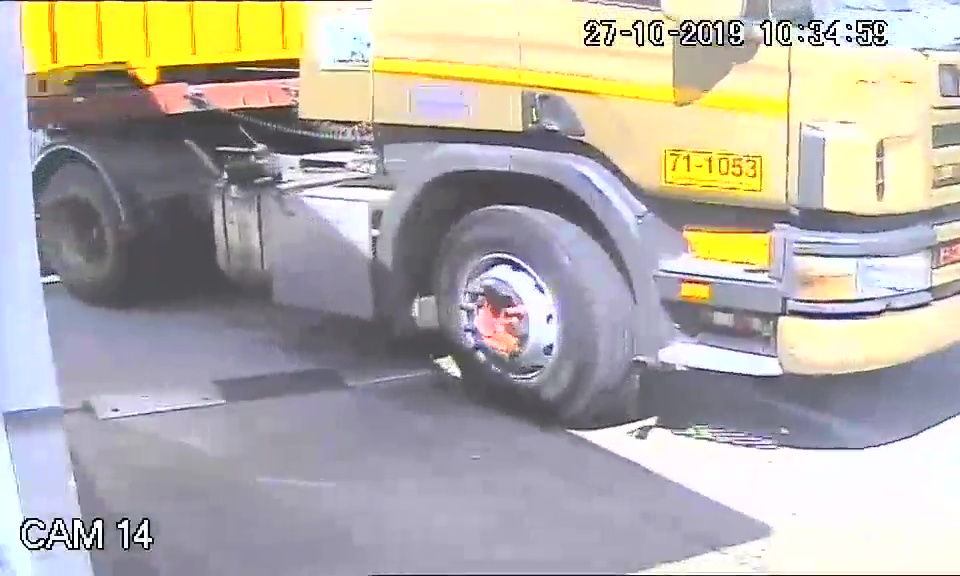truck: (349, 5, 959, 436)
